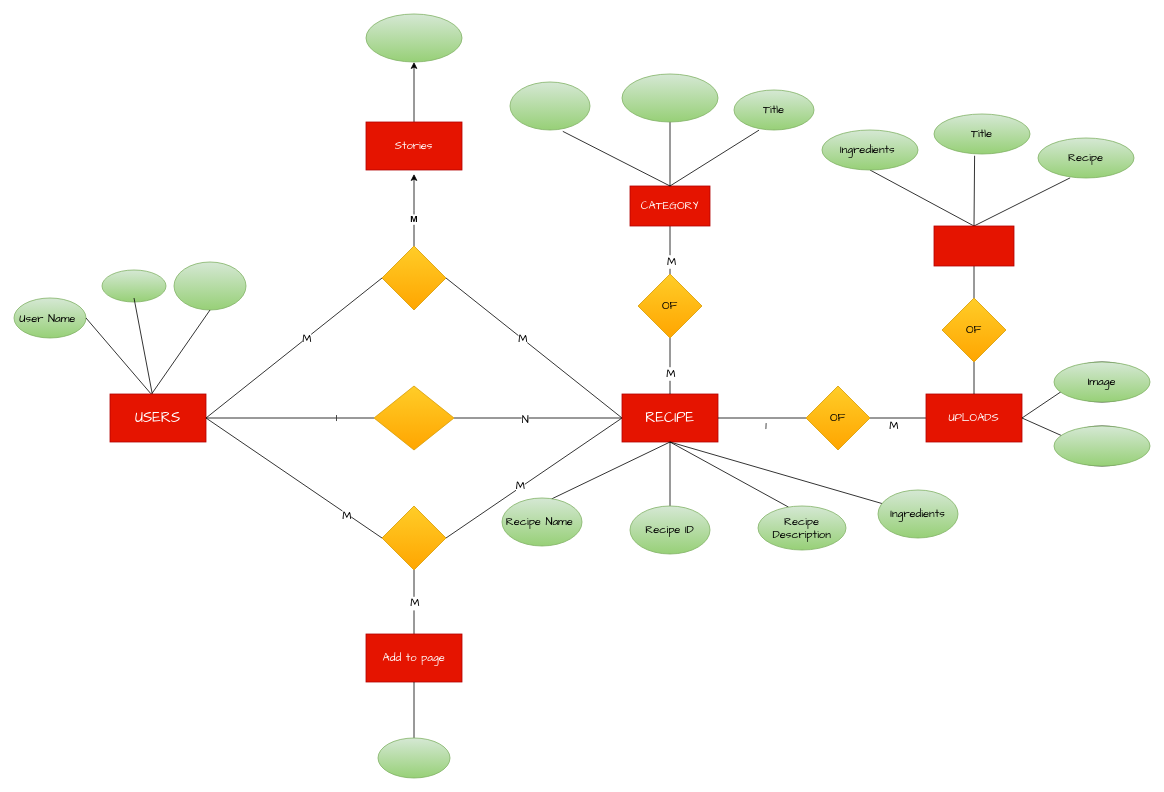
Image size: 1164x792. Some labels were removed from this diagram. The shapes that lost their labels are listed below. From the top down, each one's centre as x and y in pixels, then its label:
At pixel 413 37: "User Stories".
At pixel 549 105: "Category ID".
At pixel 669 97: "Category Description".
At pixel 973 245: "UPDATE".
At pixel 133 285: "User Email".
At pixel 209 285: "User Password".
At pixel 413 277: "VIEW".
At pixel 413 417: "PROCESS".
At pixel 413 537: "HAS".
At pixel 413 757: "Page ID".
